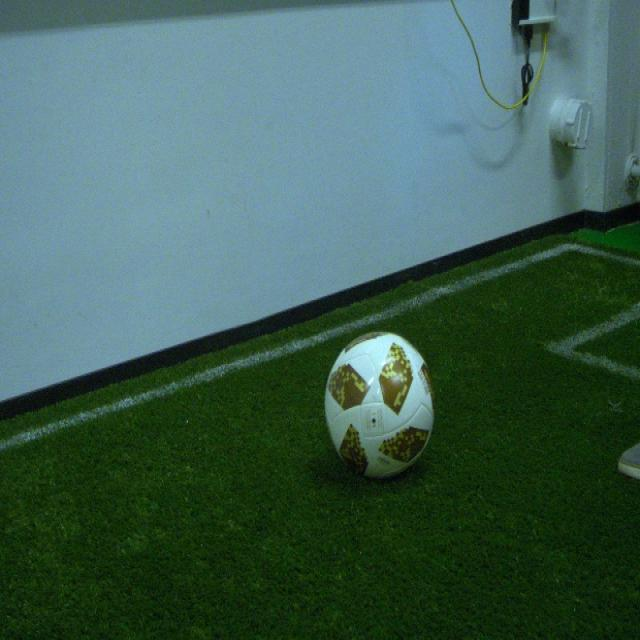ball: (323, 337, 433, 476)
